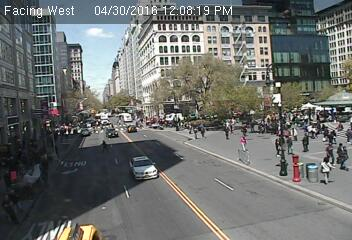neg: (66, 210, 86, 237), (171, 148, 188, 171), (111, 129, 121, 143), (124, 155, 133, 167), (126, 130, 134, 142)
pos: (97, 137, 111, 156), (238, 134, 250, 150)
